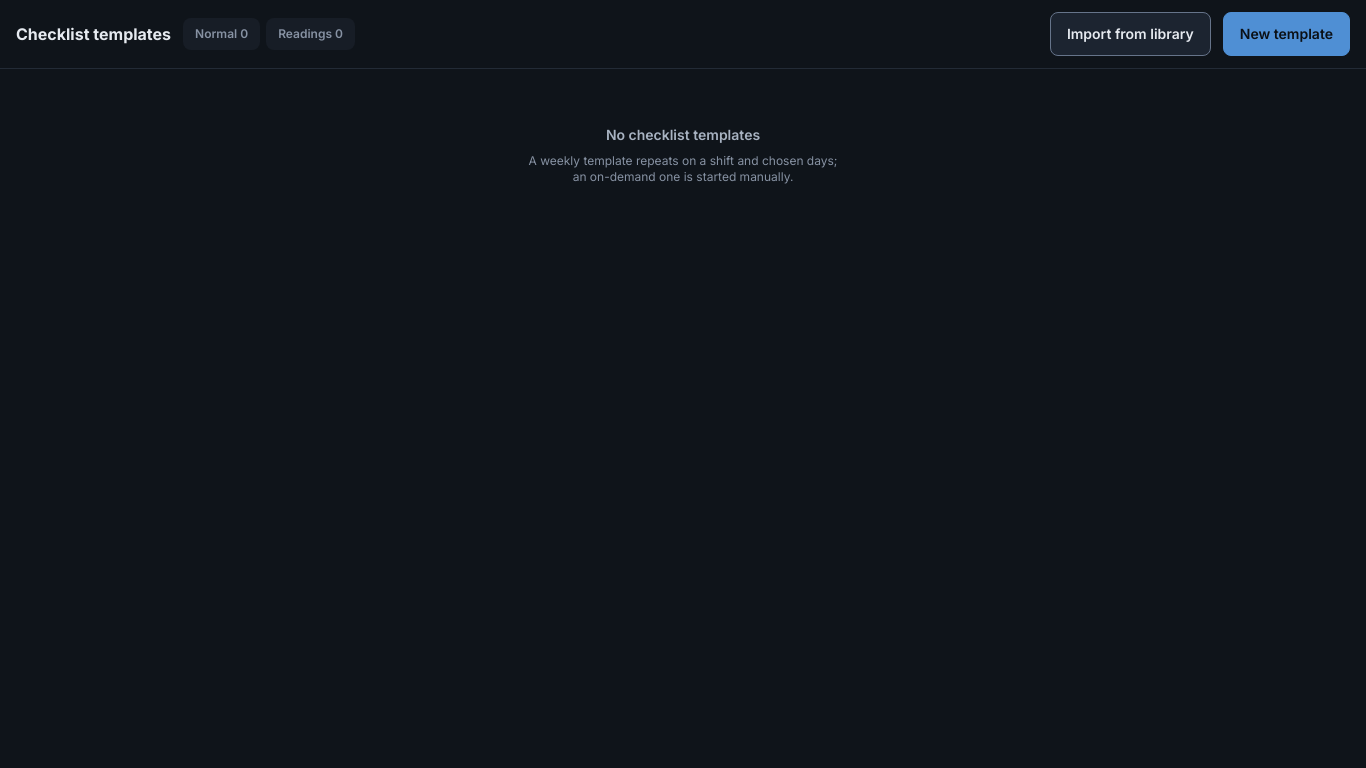
Test: ChecklistTemplatesAdmin › says no checklists are created from an unscheduled template until it is scheduled
Step 1. Click the button "New template" → (1286, 34), box left=1223, top=12, right=1350, bottom=56
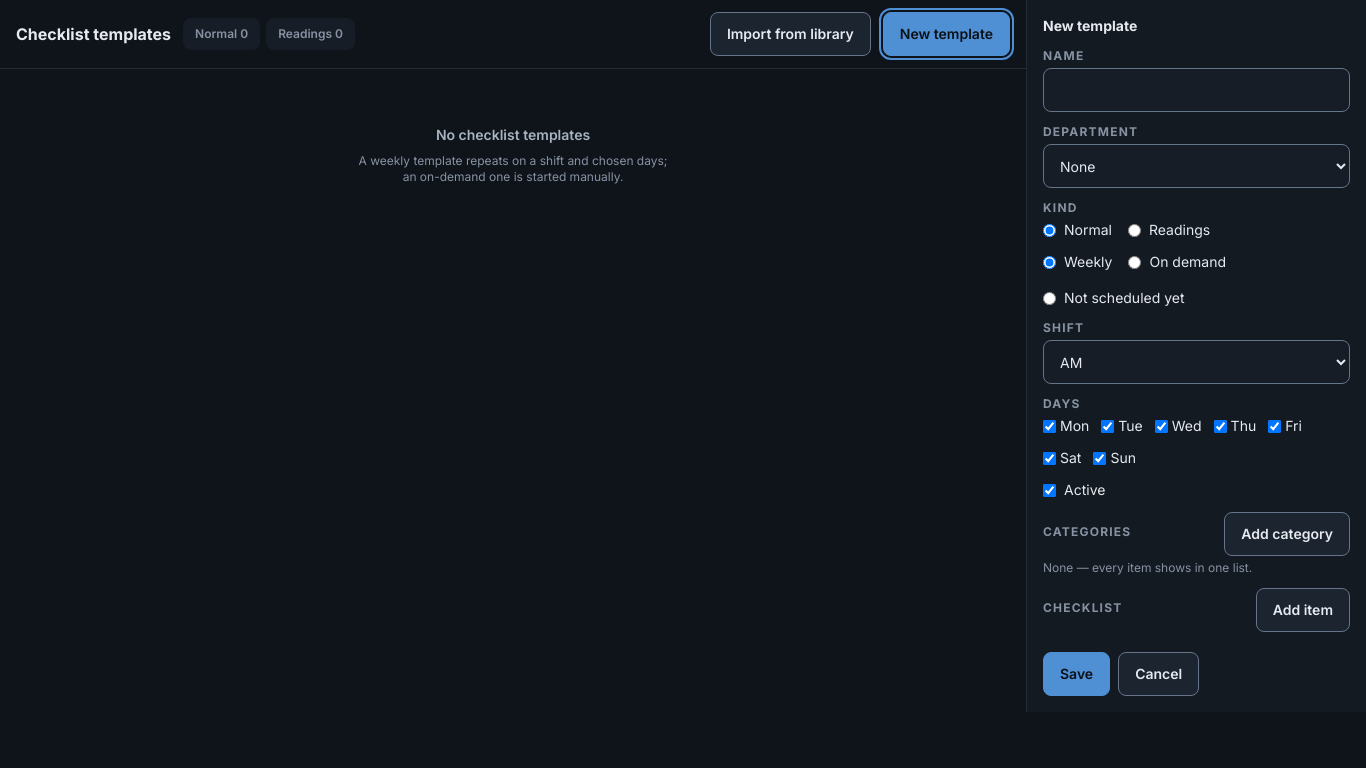
Step 2. Type "Pool" into the field labelled "Name" → (1196, 90), box left=1043, top=68, right=1350, bottom=112
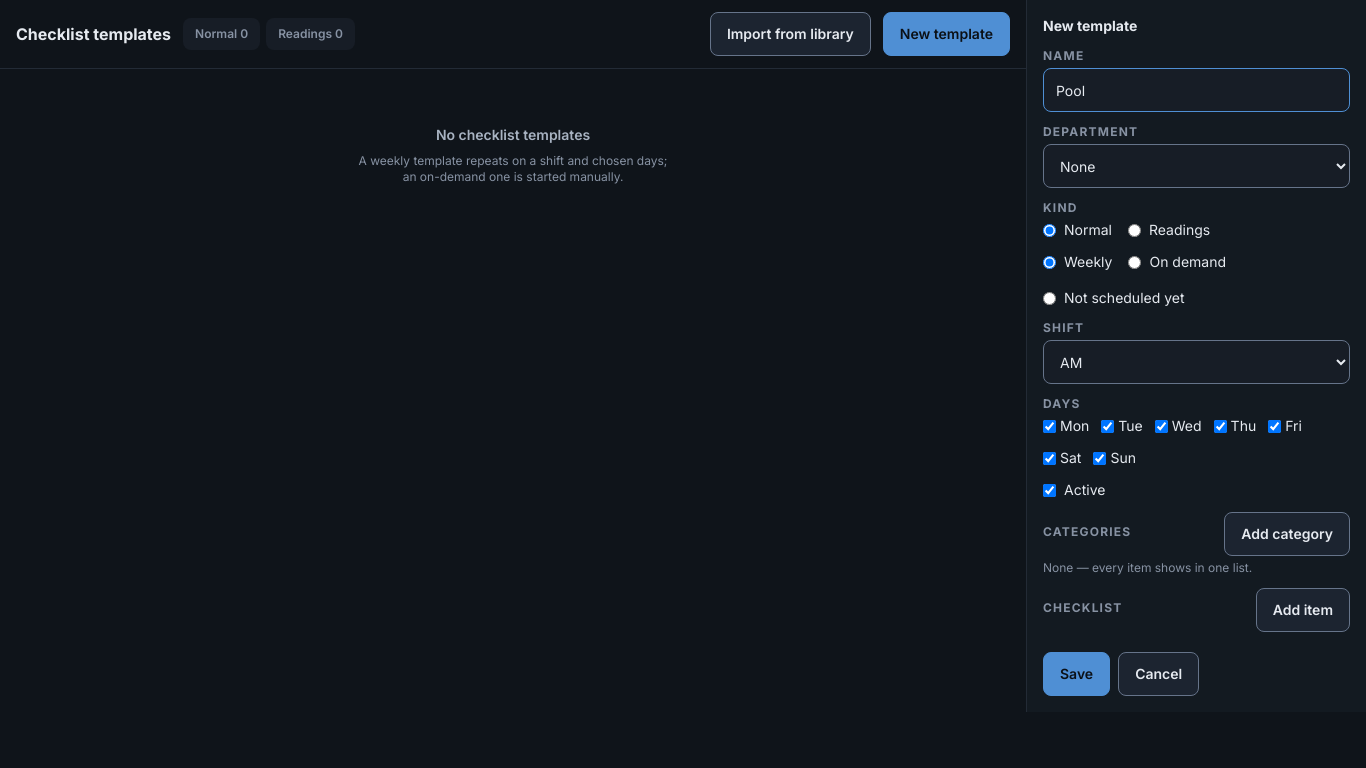
Step 3. Select "Engineering" in the dropdown labelled "Department" → (1196, 166), box left=1043, top=144, right=1350, bottom=188
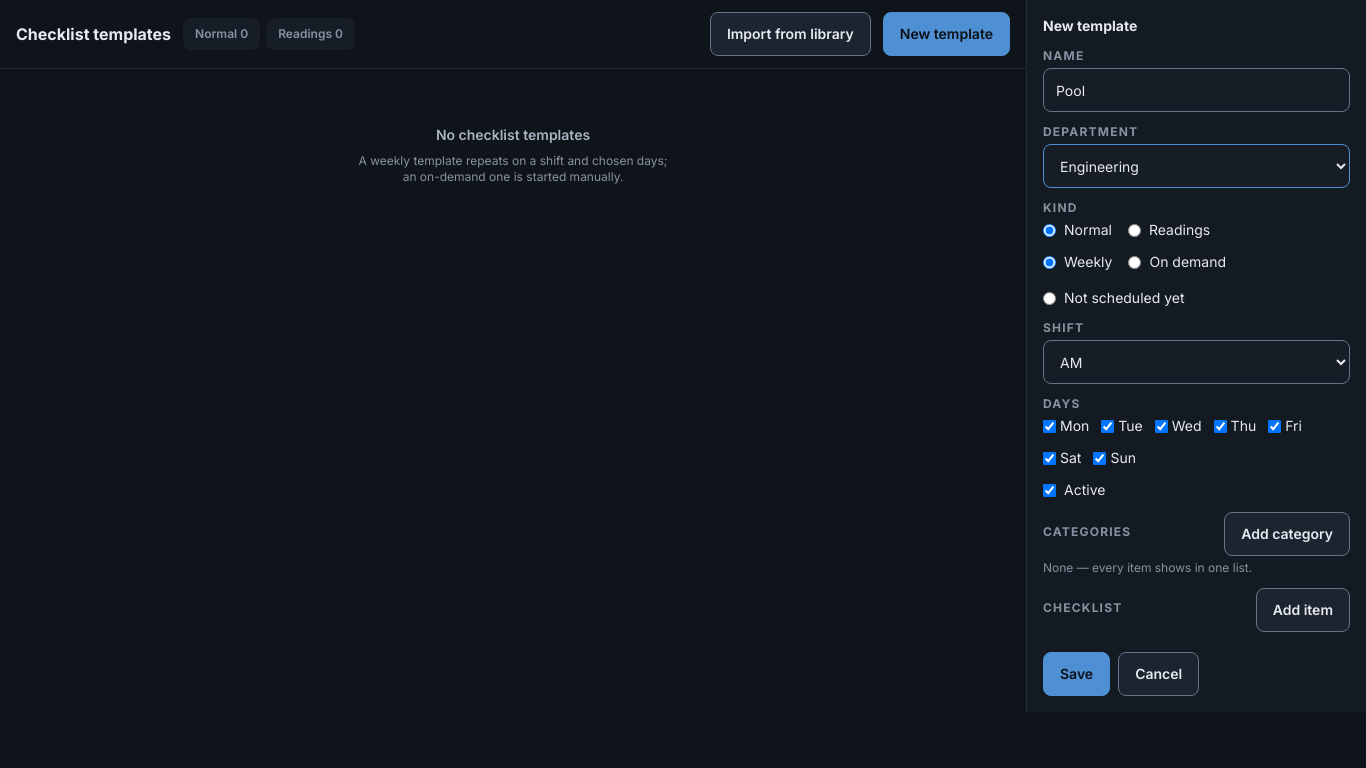
Step 4. Click the radio button labelled "Not scheduled yet" → (1050, 298), box left=1043, top=292, right=1056, bottom=304
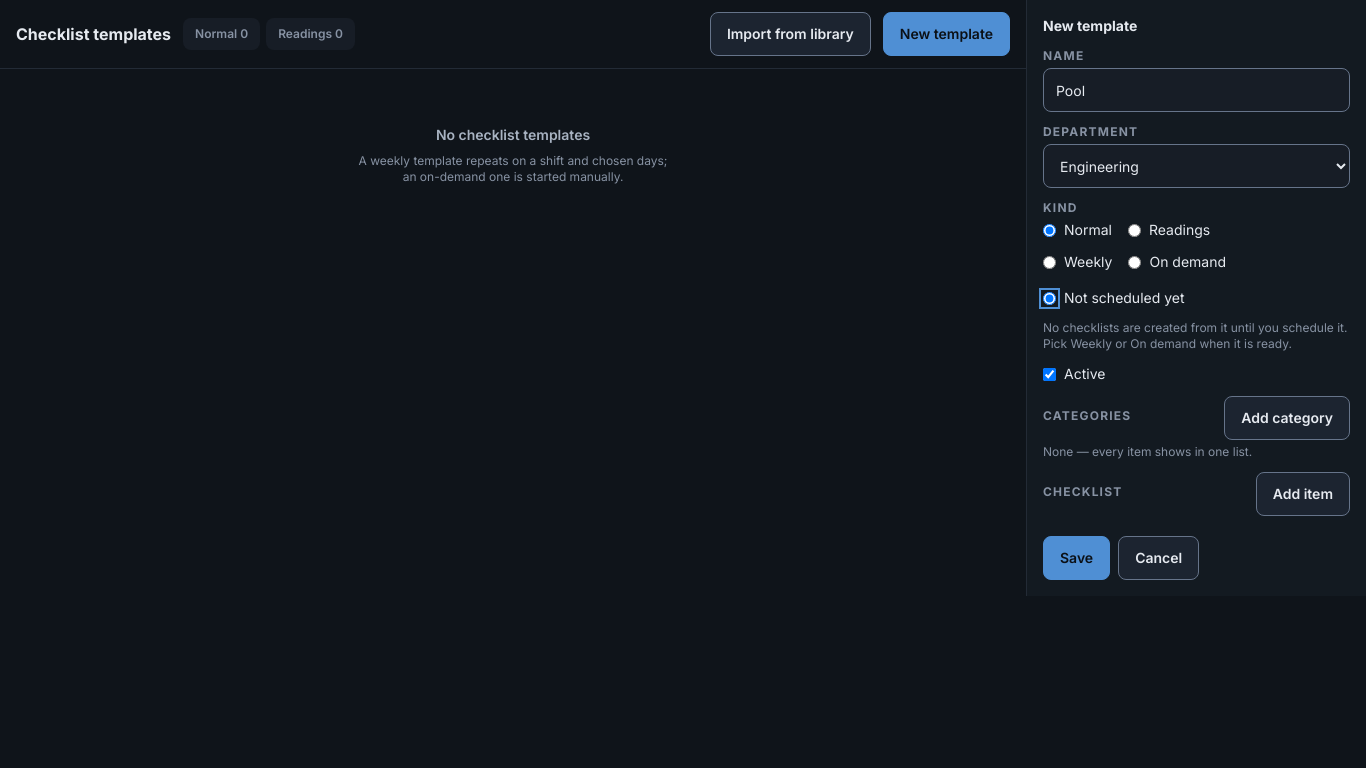
expect the text "No checklists are created from it until you schedule it." is shown: met, box left=1043, top=320, right=1348, bottom=351
